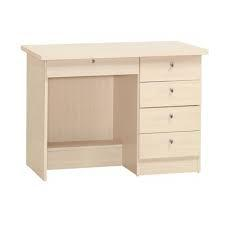desk: (6, 26, 212, 193)
